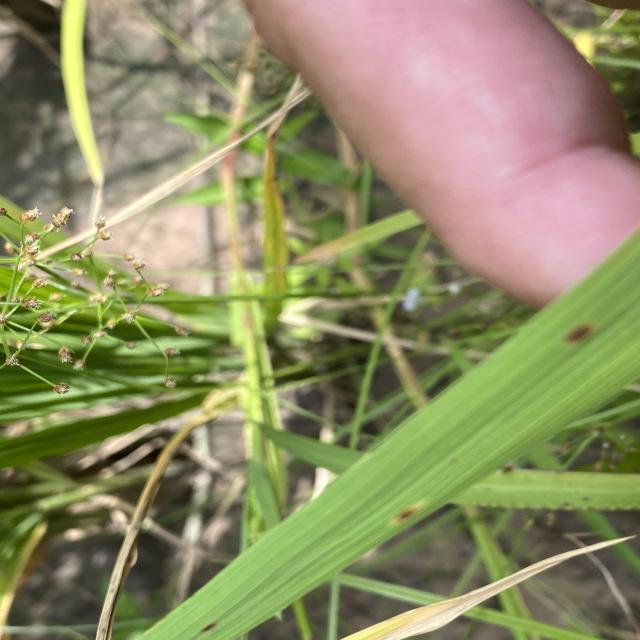Dom nau: (560, 319, 603, 346), (391, 506, 417, 526), (197, 620, 219, 633)
